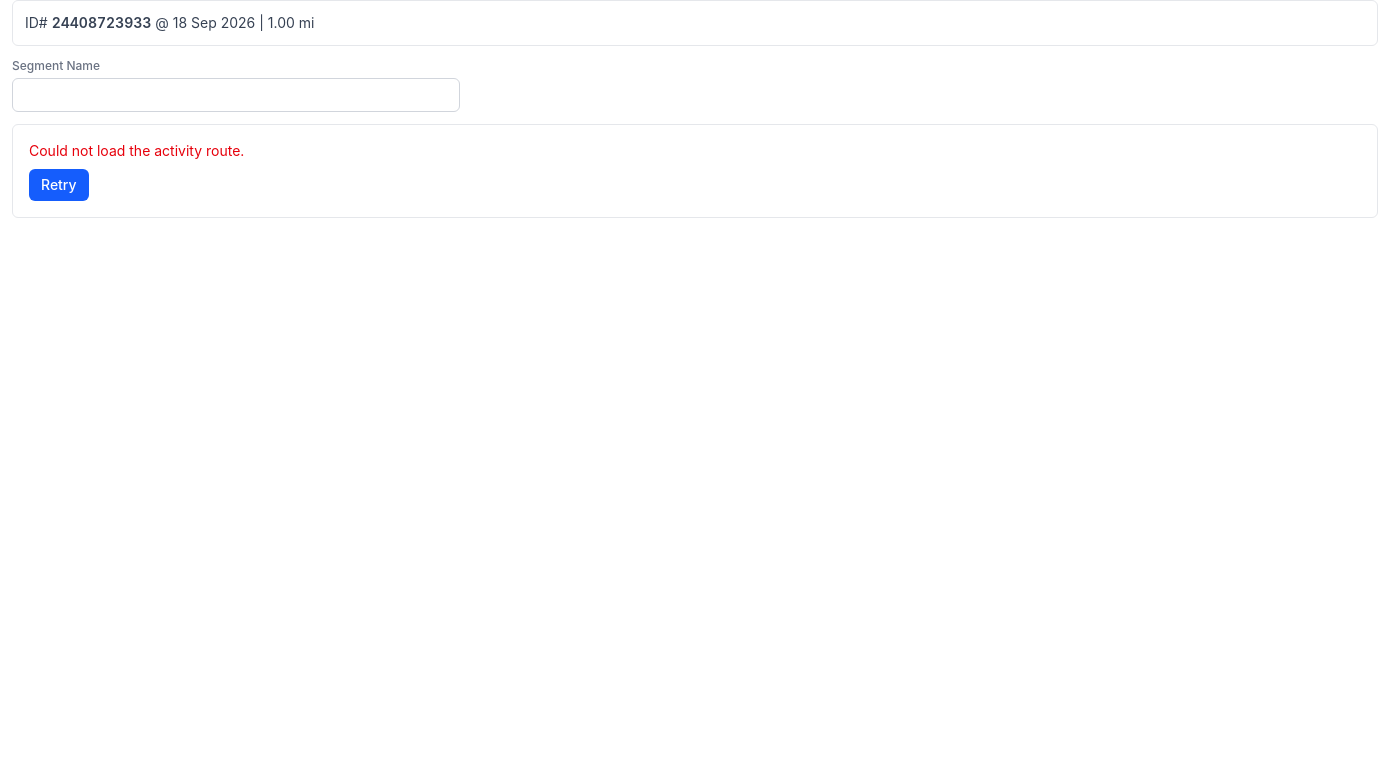
Test: SegmentTrimEditor › reports a route-load failure with a retry (error state)
The width and height of the screenshot is (1390, 768).
Expected: the message reads "Could not load the activity route.", [29,142,244,159]
Click the button "Retry": (59, 185) [29,169,89,201]
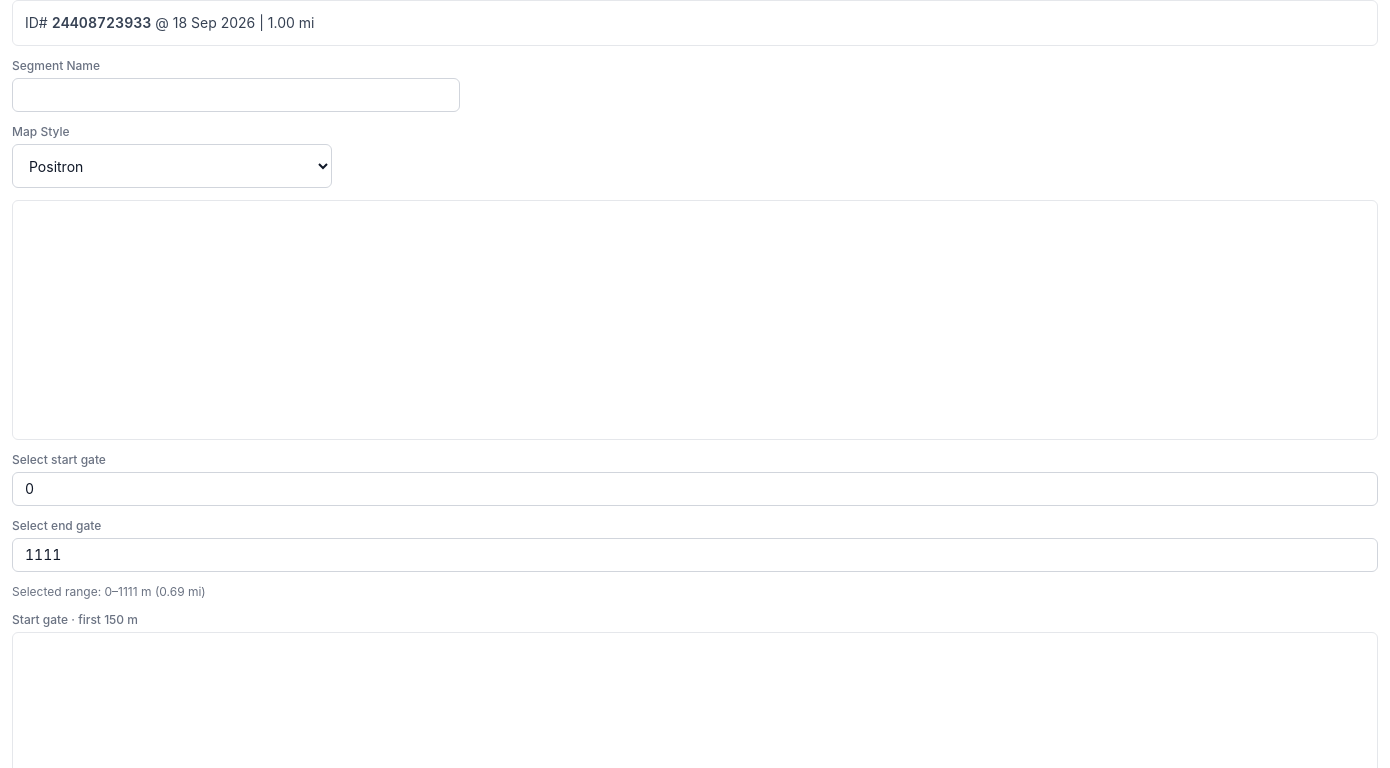
Expected: the text "Selected range: 0–1111 m (0.69 mi)" is shown, [12,584,206,599]
